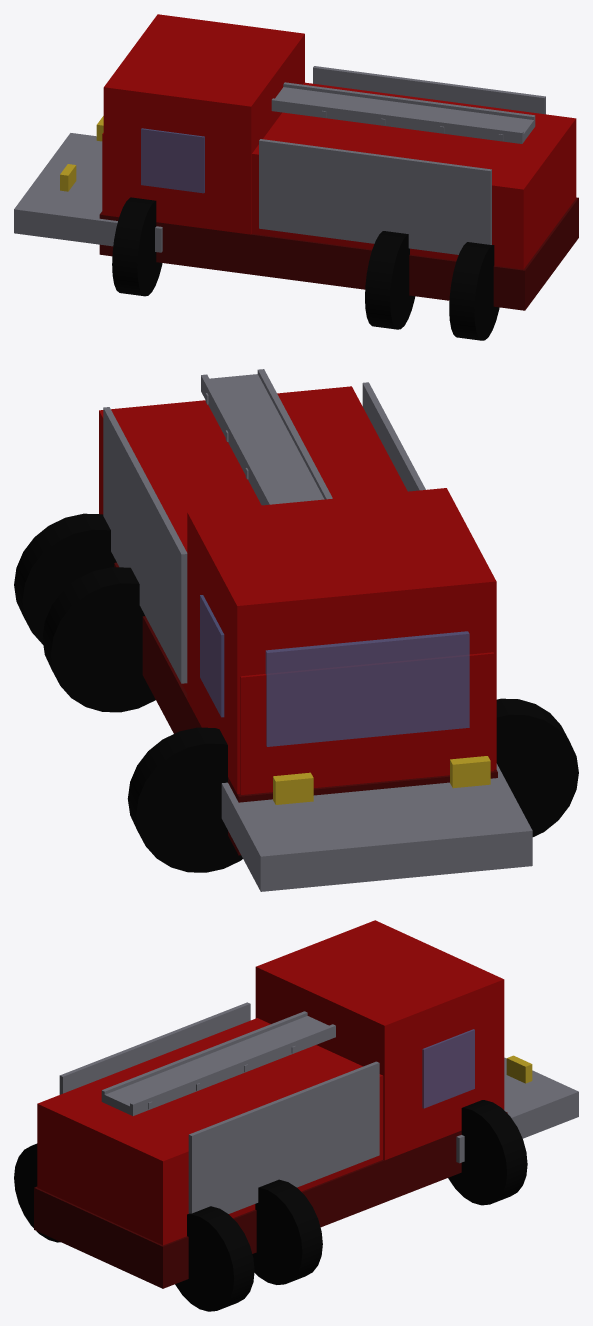
Rendered from fire_engine.glb.
3 renders of one model, top to bottom at view 1: azimuth 30°, elevation 25°; view 2: azimuth 150°, elevation 25°; view 3: azimuth 270°, elevation 25°, orthographic. The views are drawn at different scales.
Parts seen in each view (by area): view 1: cabin, panelLeft, body, lowerTrim, bumper, ladderBase, panelRight, rearWheel_L, midWheel_L, frontWheel_L, leftWindow, railLeft (+1 smaller); view 2: cabin, body, bumper, windshield, midWheel_R, frontWheel_R, panelRight, frontWheel_L, ladderBase, rearWheel_R, lowerTrim, rightWindow (+5 smaller); view 3: cabin, body, panelRight, lowerTrim, rearWheel_R, frontWheel_R, ladderBase, midWheel_R, panelLeft, bumper, rightWindow, railRight (+3 smaller).
Boxes of the visible parts, x1=… form: cabin: x1=103, y1=14, x2=304, y2=234; panelLeft: x1=259, y1=139, x2=491, y2=254; body: x1=102, y1=82, x2=576, y2=269; lowerTrim: x1=99, y1=197, x2=578, y2=310; bumper: x1=14, y1=133, x2=162, y2=252; ladderBase: x1=271, y1=87, x2=535, y2=143; panelRight: x1=313, y1=66, x2=545, y2=114; rearWheel_L: x1=449, y1=242, x2=499, y2=340; midWheel_L: x1=365, y1=231, x2=415, y2=329; frontWheel_L: x1=112, y1=197, x2=162, y2=296; leftWindow: x1=141, y1=128, x2=204, y2=193; railLeft: x1=271, y1=98, x2=523, y2=138; cabin: x1=187, y1=488, x2=496, y2=793; body: x1=99, y1=386, x2=493, y2=794; bumper: x1=221, y1=763, x2=532, y2=891; windshield: x1=265, y1=631, x2=469, y2=746; midWheel_R: x1=42, y1=567, x2=155, y2=712; frontWheel_R: x1=127, y1=727, x2=242, y2=872; panelRight: x1=103, y1=407, x2=187, y2=683; frontWheel_L: x1=496, y1=698, x2=578, y2=836; ladderBase: x1=201, y1=374, x2=324, y2=505; rearWheel_R: x1=14, y1=513, x2=116, y2=644; lowerTrim: x1=114, y1=562, x2=497, y2=855; rightWindow: x1=200, y1=595, x2=224, y2=717; cabin: x1=255, y1=920, x2=504, y2=1160; body: x1=37, y1=1018, x2=383, y2=1245; panelRight: x1=188, y1=1061, x2=379, y2=1213; lowerTrim: x1=34, y1=1112, x2=507, y2=1288; rearWheel_R: x1=175, y1=1206, x2=254, y2=1311; frontWheel_R: x1=448, y1=1100, x2=527, y2=1205; ladderBase: x1=101, y1=1016, x2=335, y2=1115; midWheel_R: x1=252, y1=1179, x2=322, y2=1284; panelLeft: x1=59, y1=1002, x2=250, y2=1094; bumper: x1=456, y1=1057, x2=578, y2=1163; rightWindow: x1=422, y1=1029, x2=474, y2=1108; railRight: x1=130, y1=1024, x2=335, y2=1110.
Size of what is drawn, in the model's own units: 11.85 by 4.8 by 12.17.
